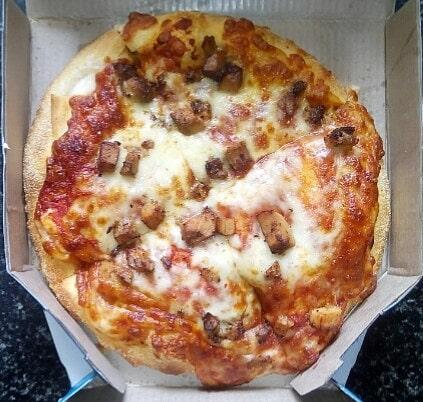Chicken: (113, 58, 154, 103), (170, 97, 211, 131), (255, 210, 291, 247), (203, 315, 245, 342), (182, 209, 217, 241), (89, 142, 123, 174), (277, 80, 304, 117), (136, 200, 169, 229), (328, 123, 359, 150), (228, 144, 250, 172), (124, 148, 141, 183), (310, 309, 342, 326), (218, 68, 242, 90), (128, 249, 153, 270), (111, 223, 137, 242), (197, 38, 214, 64), (206, 53, 223, 75), (218, 218, 237, 236), (205, 158, 223, 177), (308, 104, 324, 123)
Pizza: (24, 15, 391, 388)
